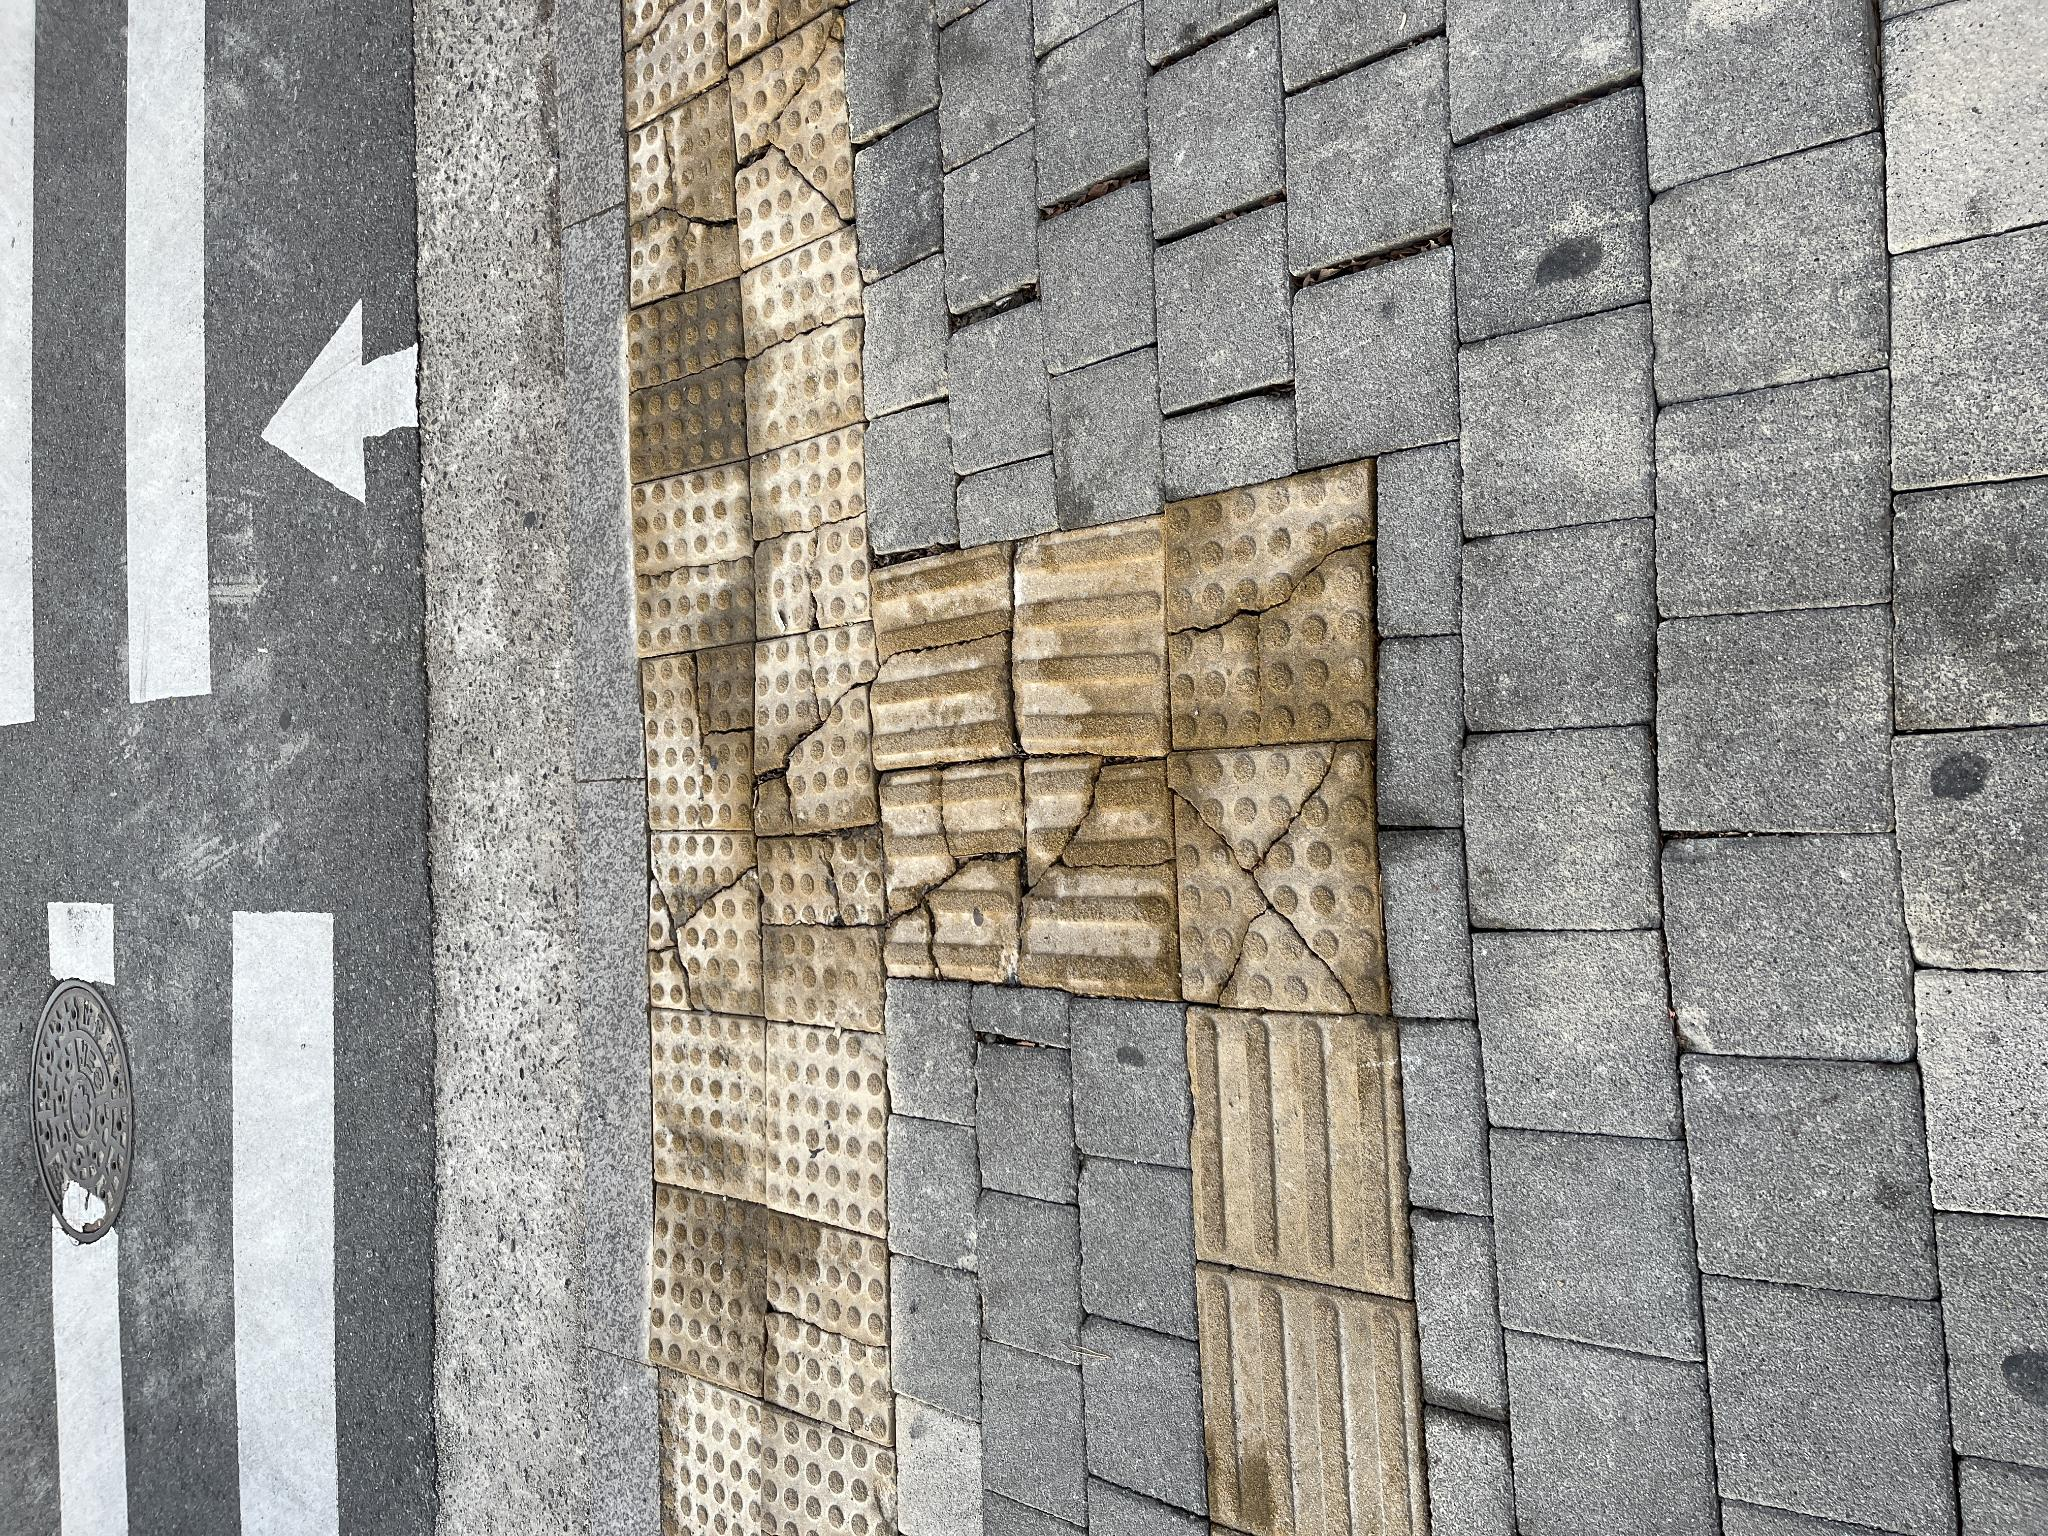Stop block broken: (787, 1168, 1071, 1370), (526, 1170, 792, 1384), (705, 757, 910, 874), (521, 652, 703, 762)
Straight block broken: (539, 1021, 774, 1179), (768, 870, 992, 1016), (555, 881, 774, 1016)
Straight block normal: (237, 1187, 527, 1409), (784, 1020, 1019, 1167)
